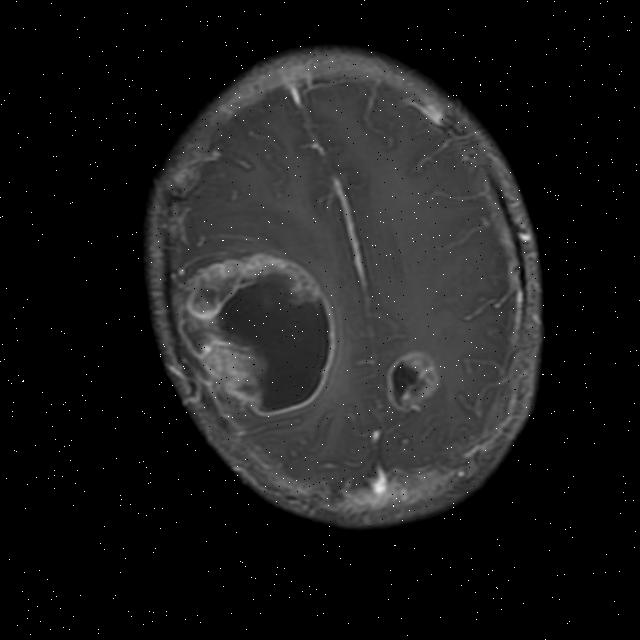Glioma: (163, 239, 357, 430), (377, 345, 448, 421)
